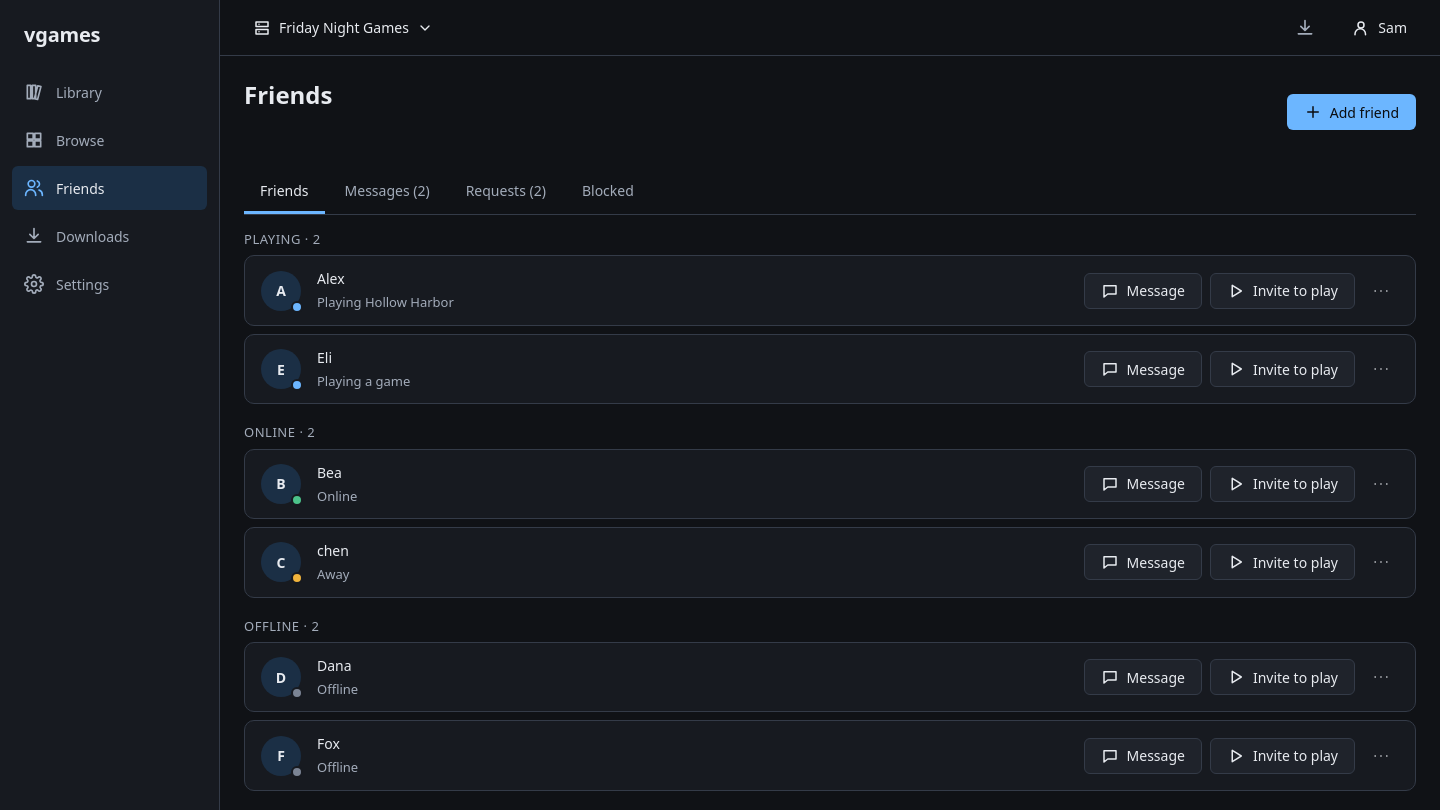
friends list › blocks a friend, who then shows under Blocked and can be unblocked
Check: the text "Bea" is shown, box [317,462,342,482]
Click the button named "More for Bea" at (1381, 484), box [1363,466,1399,502]
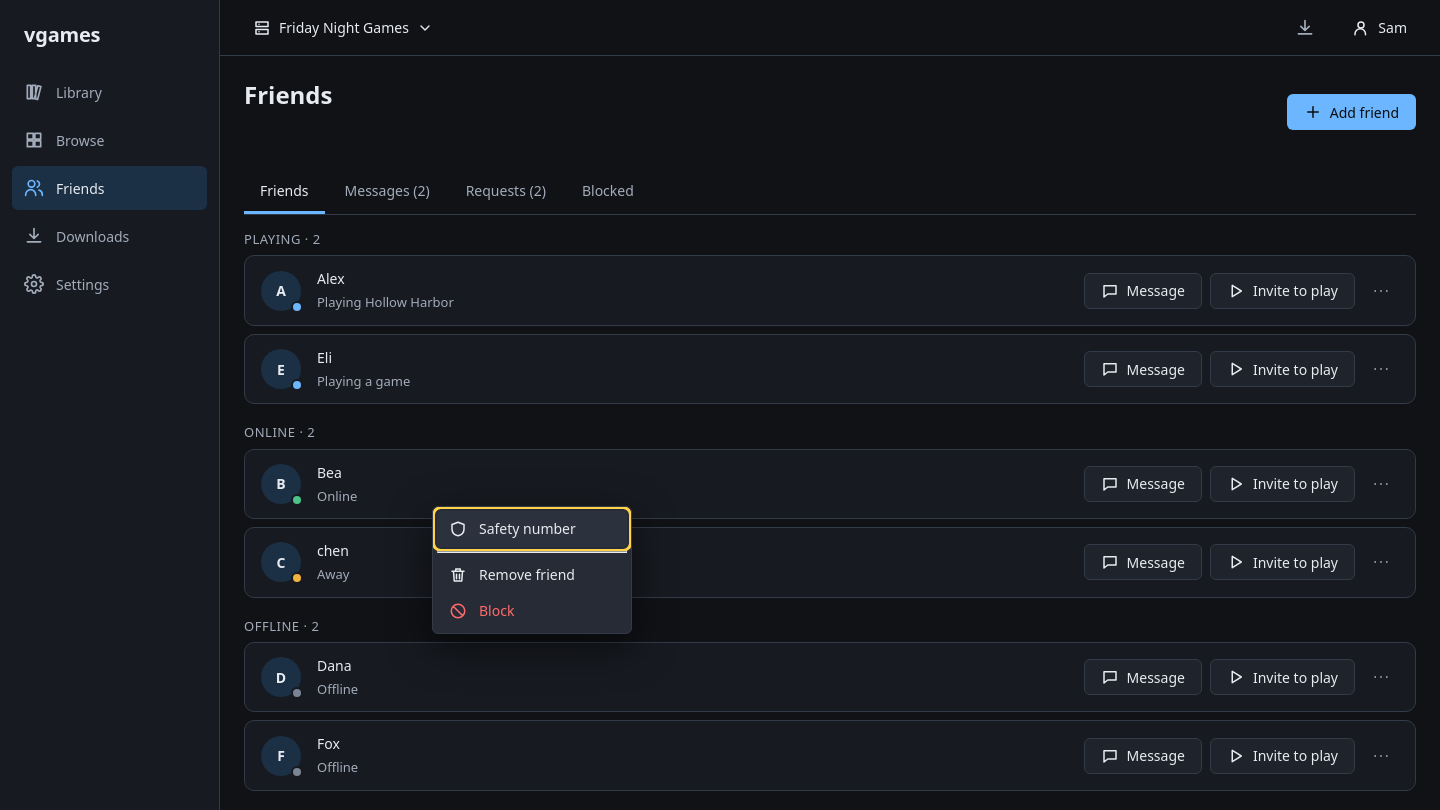
Click the menu item "Block" at (532, 611), box [437,593,627,629]
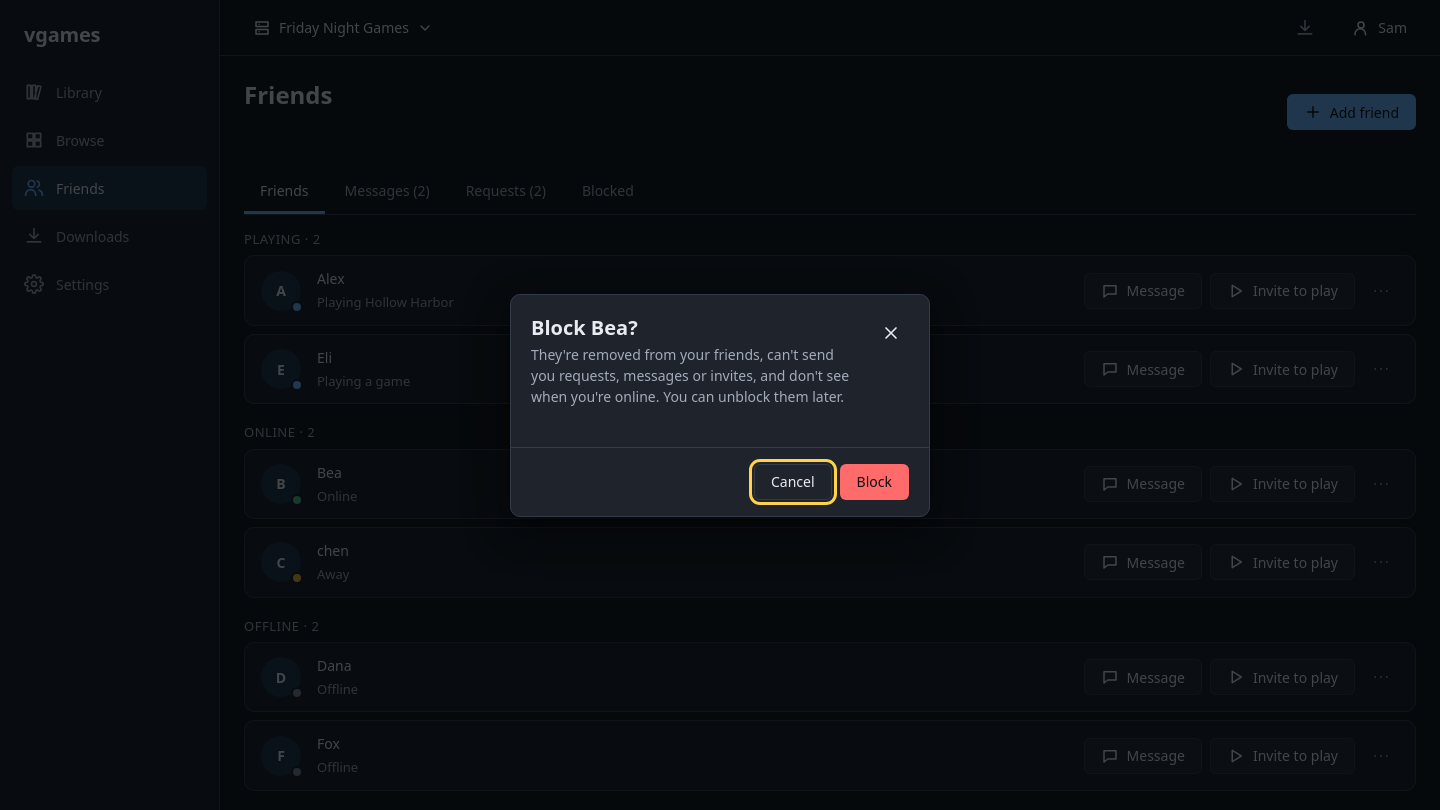
Click the button "Block" at (874, 482), box [840,464,909,500]
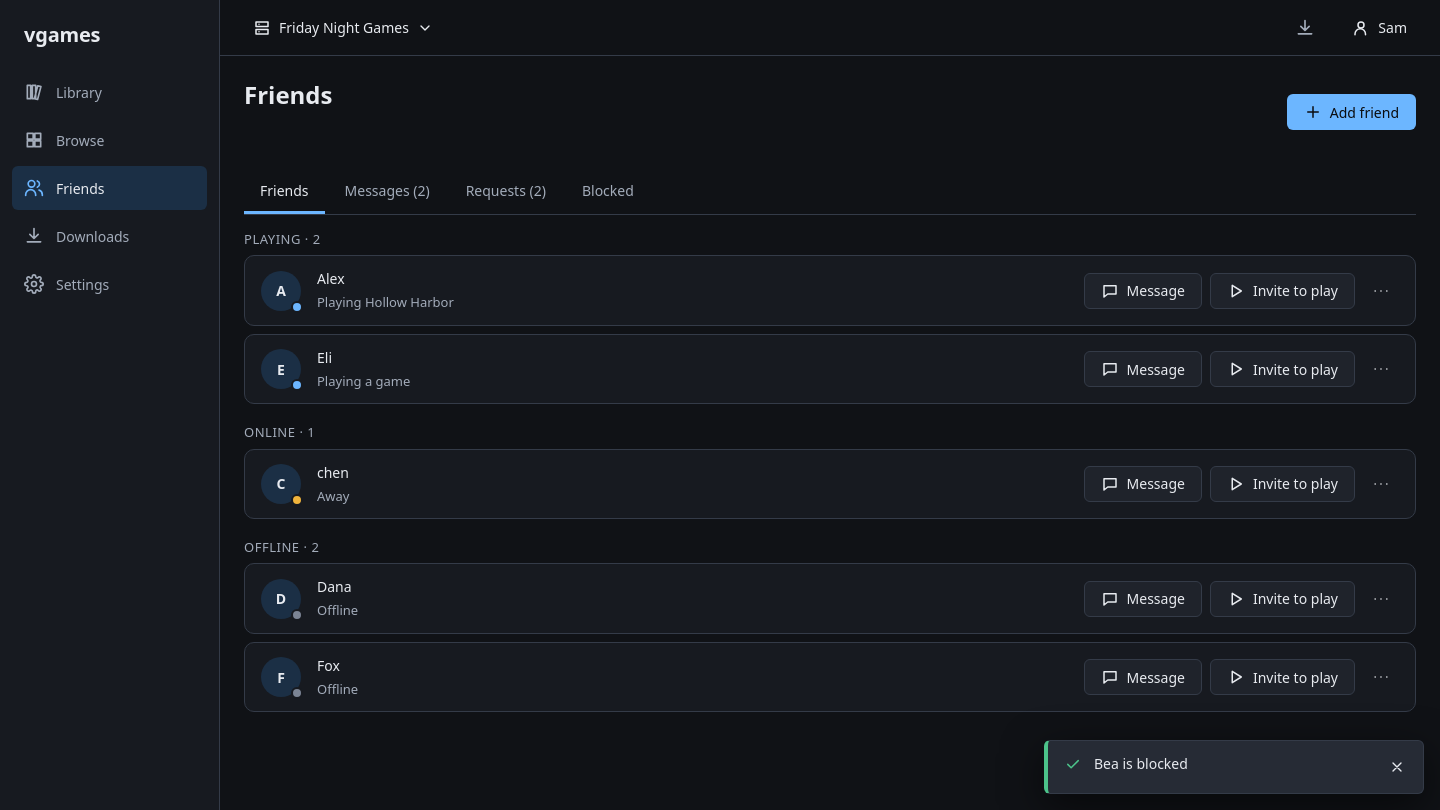
Click the tab "Blocked" at (608, 192), box [566,170,650,214]
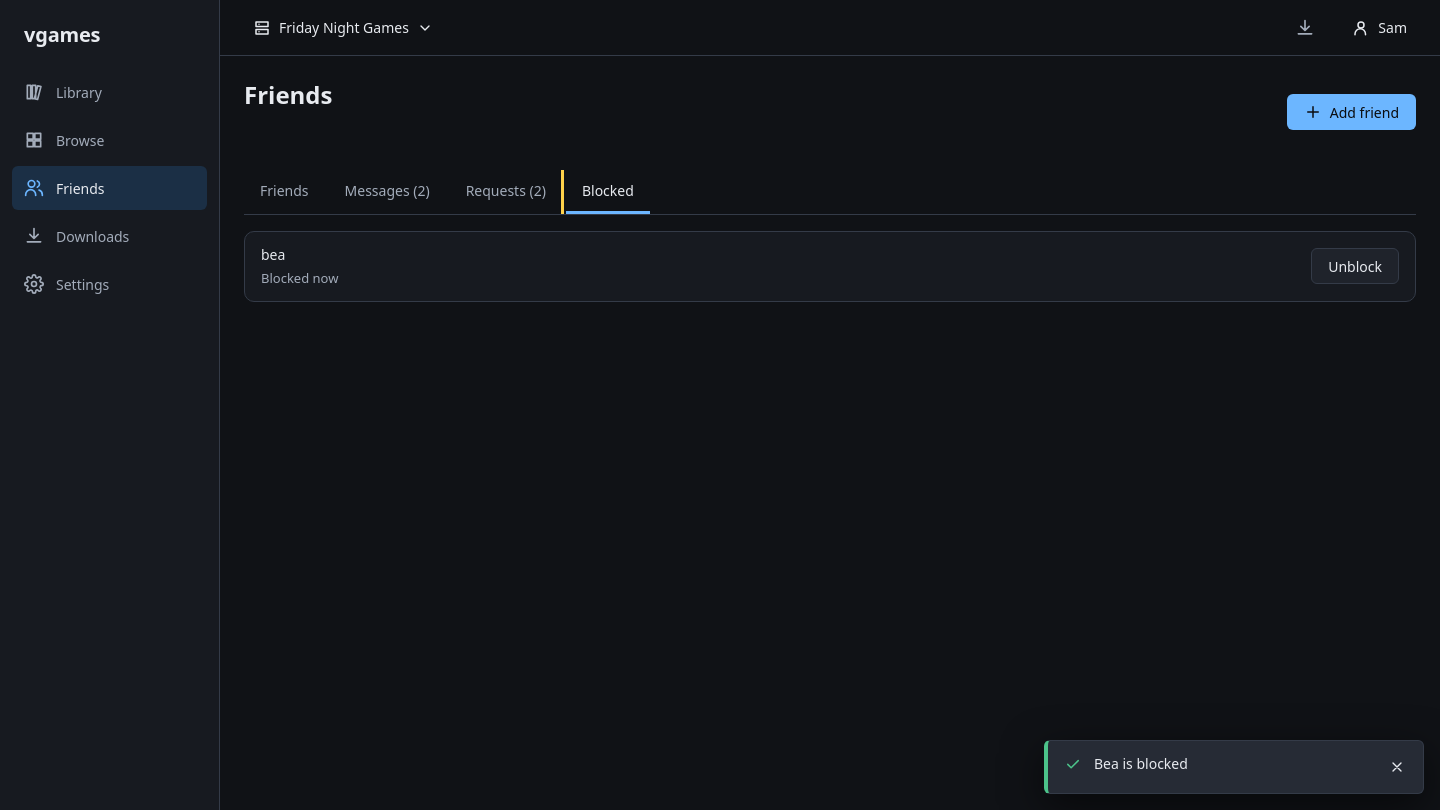
Click the button with aria-label "Unblock: bea" at (1355, 266), box [1311,248,1399,284]
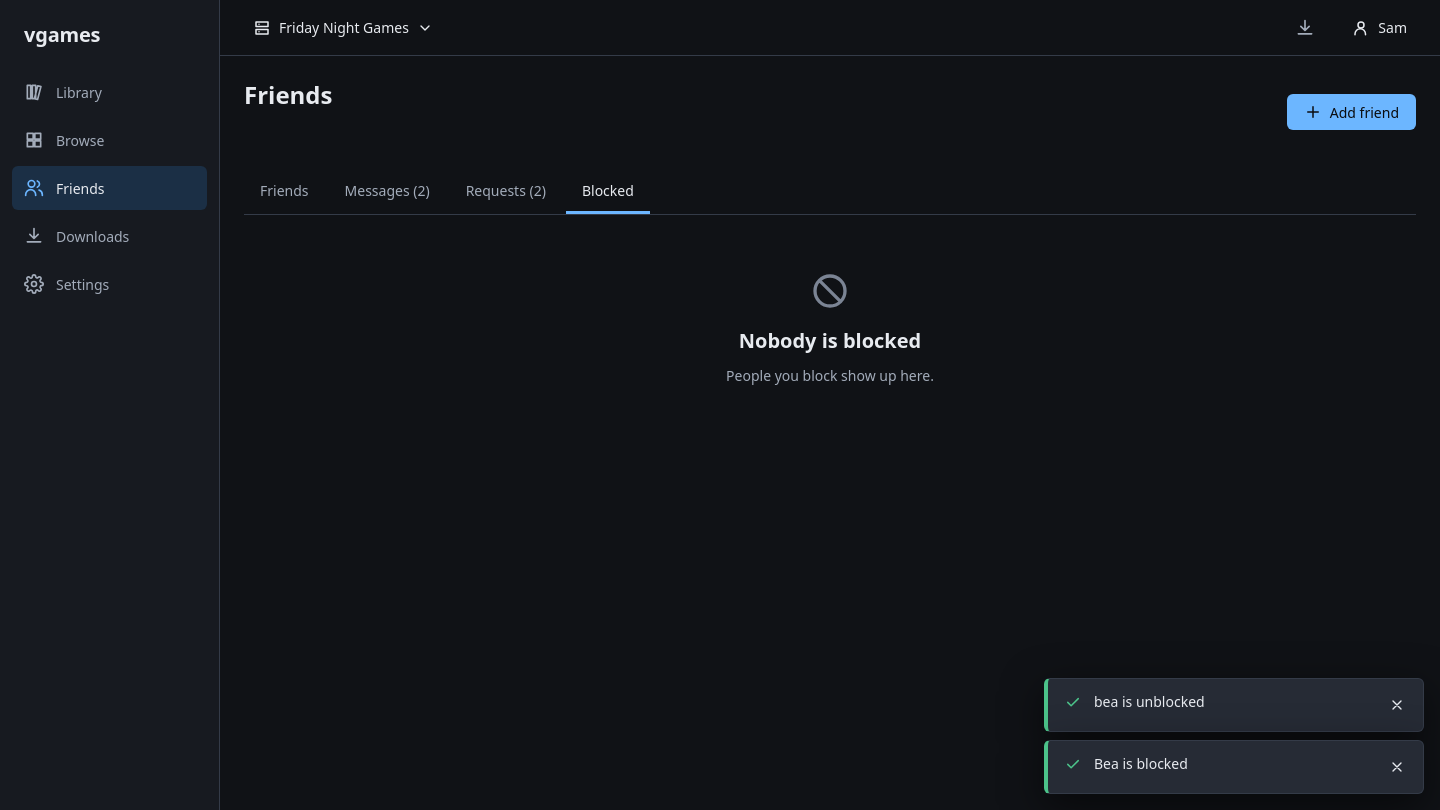
Check: the heading "Nobody is blocked" is shown, box [739,328,921,353]
